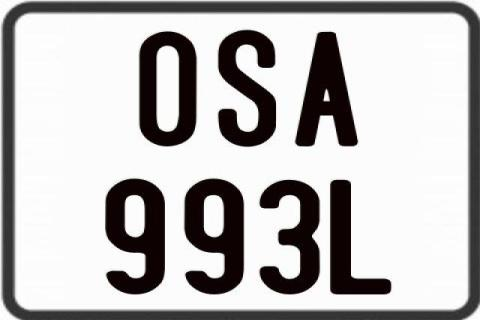0: (105, 178, 171, 298), (260, 177, 321, 293), (182, 176, 242, 292), (136, 30, 195, 146)
A: (294, 32, 361, 148)
L: (328, 180, 393, 295)
S: (216, 28, 275, 146)
